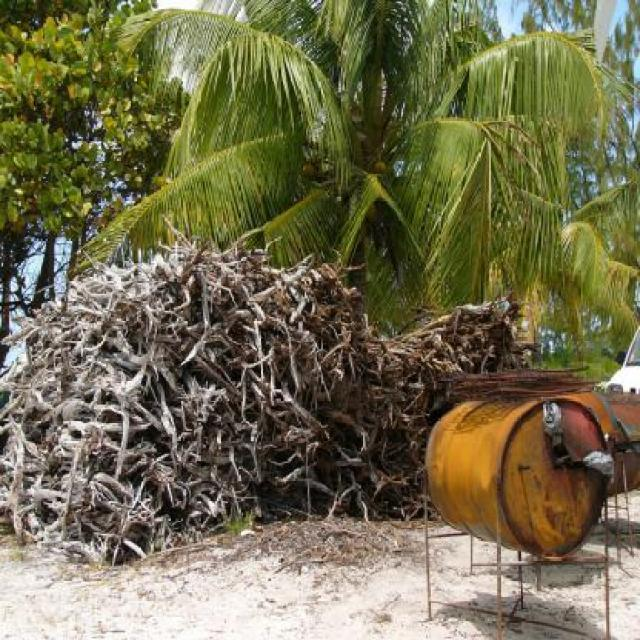Coconut: (302, 138, 390, 222)
